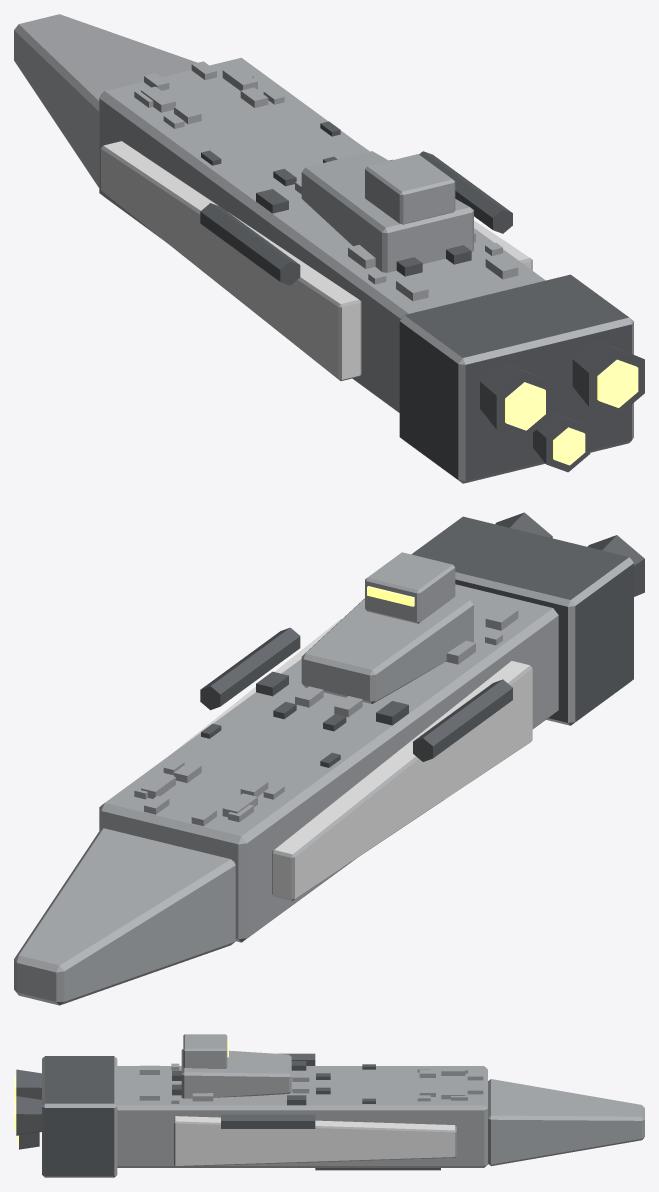
The model's file is human_cruiser_mk1.glb.
3 renders of one model, top to bottom at view 1: azimuth 30°, elevation 25°; view 2: azimuth 150°, elevation 25°; view 3: azimuth 270°, elevation 25°, orthographic. The views are drawn at different scales.
Visible parts, largest first — view 1: human_cruiser_mk1_LOD0; view 2: human_cruiser_mk1_LOD0; view 3: human_cruiser_mk1_LOD0.
Part boxes in pixels (x1=…): human_cruiser_mk1_LOD0: x1=14, y1=14, x2=644, y2=483; human_cruiser_mk1_LOD0: x1=14, y1=512, x2=644, y2=1005; human_cruiser_mk1_LOD0: x1=14, y1=1034, x2=644, y2=1177.
Size of what is drawn, in the model's own units: 5.03 by 4.25 by 20.09.
